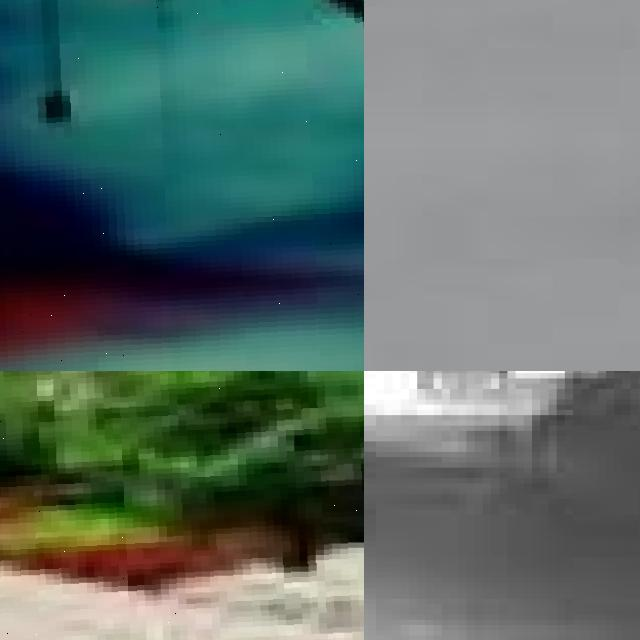street light: (0, 0, 364, 371), (0, 371, 364, 640)
